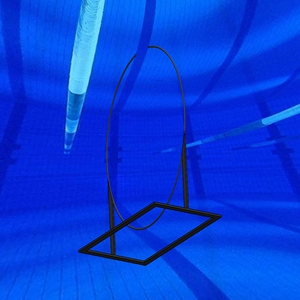circle: (78, 45, 223, 267)
